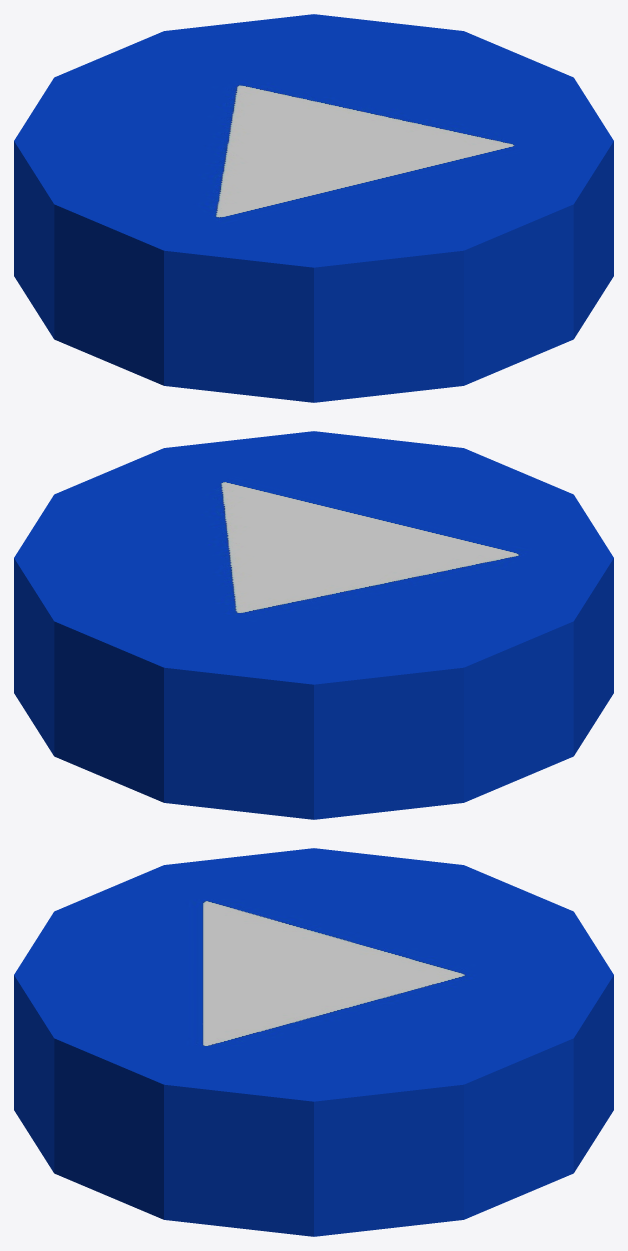
The model's file is btn.gltf.
The picture shows the model from 3 angles, top to bottom: view 1: azimuth 30°, elevation 25°; view 2: azimuth 150°, elevation 25°; view 3: azimuth 270°, elevation 25°; orthographic projection.
Parts seen in each view (by area): view 1: Cylinder; view 2: Cylinder; view 3: Cylinder.
Part boxes in pixels (x1=…): Cylinder: x1=14, y1=14, x2=613, y2=402; Cylinder: x1=14, y1=431, x2=613, y2=819; Cylinder: x1=14, y1=848, x2=613, y2=1236.
Bounding box in the file's own units: 1.16 × 0.2886 × 1.16.
Materials: 1 (1 with a texture image).
